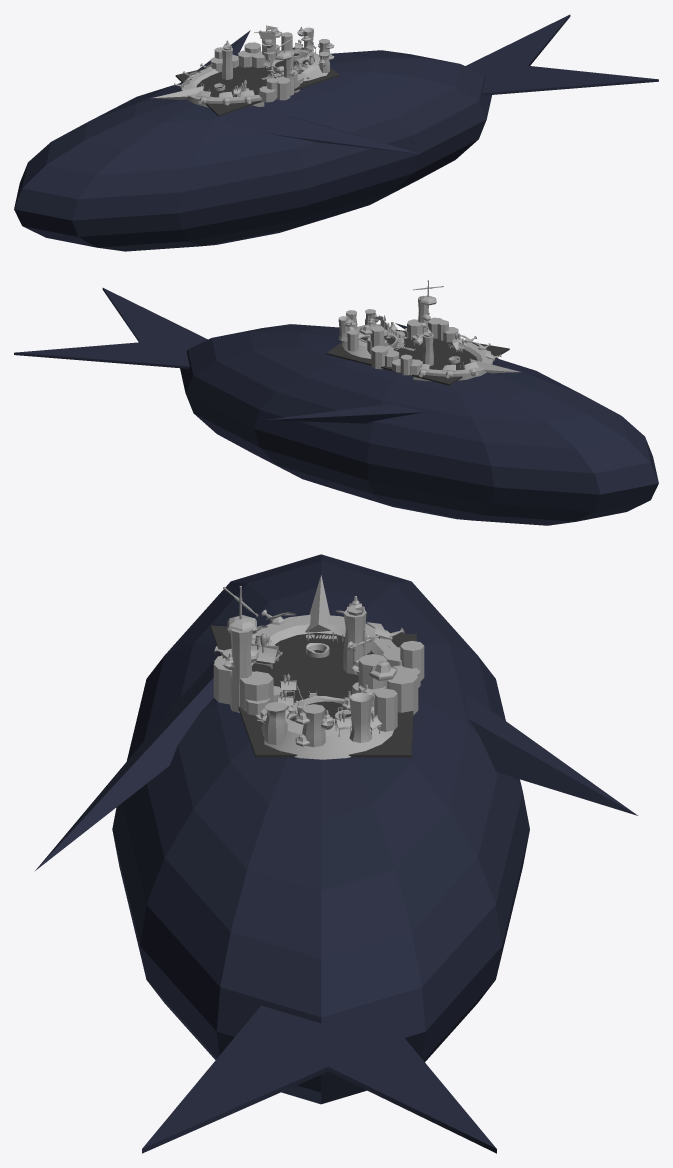
The model's file is Deafult_Town.fbx.
The picture shows the model from 3 angles, top to bottom: view 1: azimuth 30°, elevation 25°; view 2: azimuth 150°, elevation 25°; view 3: azimuth 270°, elevation 25°; orthographic projection. The views are drawn at different scales.
Visible parts, largest first — view 1: Whale, Hot_Pot, Floor, Rock_Blockade, Fountain, Right_Sail; view 2: Whale, Hot_Pot, Rock_Blockade, Floor, Fountain, Right_Sail; view 3: Whale, Hot_Pot, Floor, Rock_Blockade, Fountain, Right_Sail.
Boxes of the visible parts, x1=… form: Whale: x1=14, y1=14, x2=658, y2=251; Hot_Pot: x1=232, y1=25, x2=334, y2=96; Floor: x1=175, y1=47, x2=339, y2=116; Rock_Blockade: x1=210, y1=40, x2=299, y2=102; Fountain: x1=151, y1=63, x2=264, y2=107; Right_Sail: x1=275, y1=36, x2=295, y2=95; Whale: x1=14, y1=288, x2=658, y2=525; Hot_Pot: x1=338, y1=309, x2=466, y2=358; Rock_Blockade: x1=371, y1=317, x2=458, y2=375; Floor: x1=326, y1=329, x2=509, y2=385; Fountain: x1=413, y1=335, x2=520, y2=381; Right_Sail: x1=412, y1=280, x2=443, y2=334; Whale: x1=35, y1=554, x2=637, y2=1153; Hot_Pot: x1=251, y1=629, x2=397, y2=759; Floor: x1=210, y1=625, x2=416, y2=757; Rock_Blockade: x1=213, y1=596, x2=424, y2=715; Fountain: x1=214, y1=575, x2=404, y2=665; Right_Sail: x1=222, y1=586, x2=258, y2=712.
Bounding box in the file's own units: 266 × 84.59 × 116.
